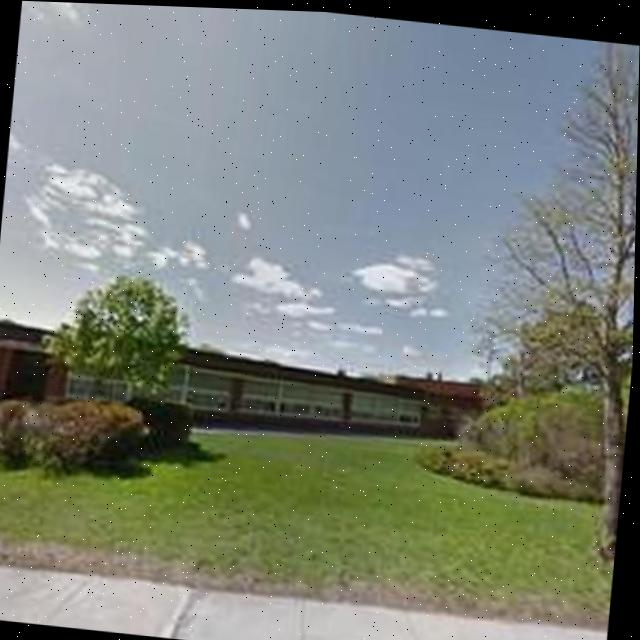building: (0, 313, 484, 450)
